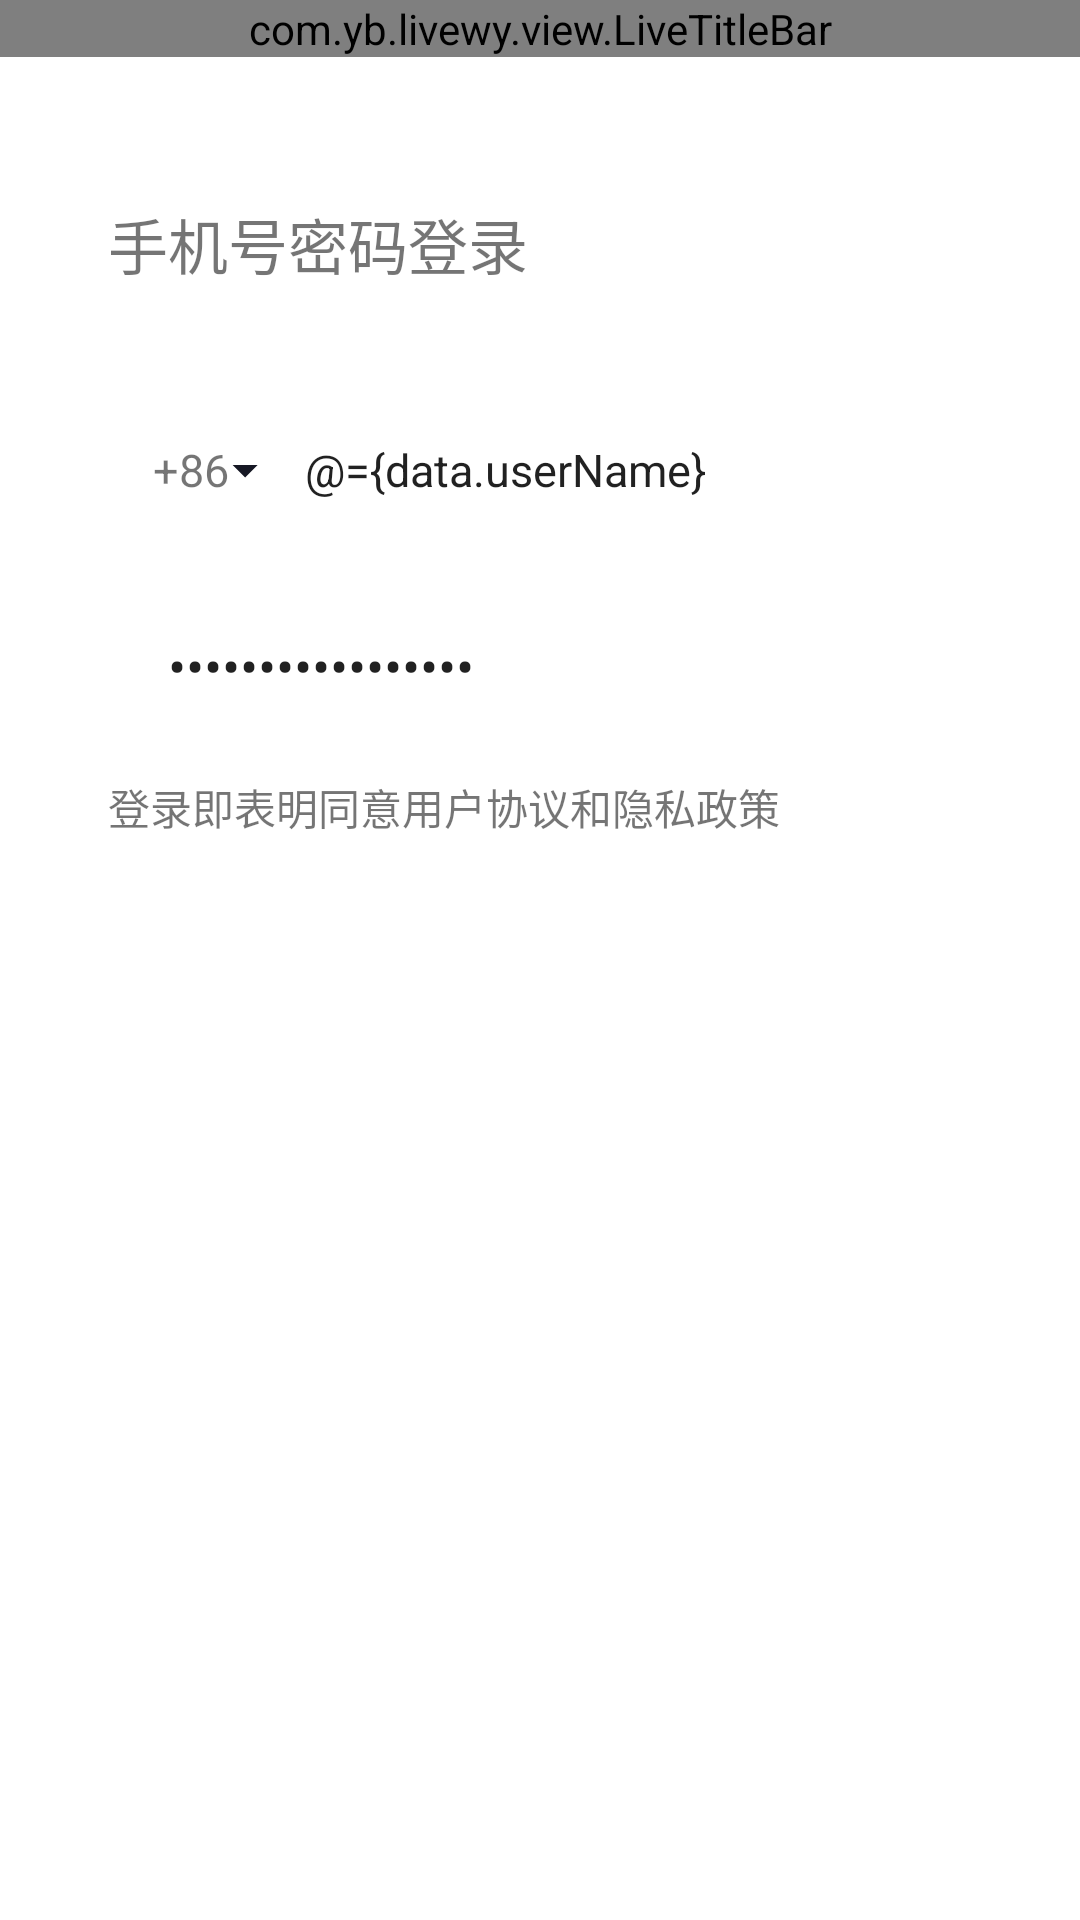

Locate icon controls on the screen. Image size 1080w x 1920h, boxes as (x1, y1, x2, y2).
arrow drop down: (233, 465, 258, 478)
